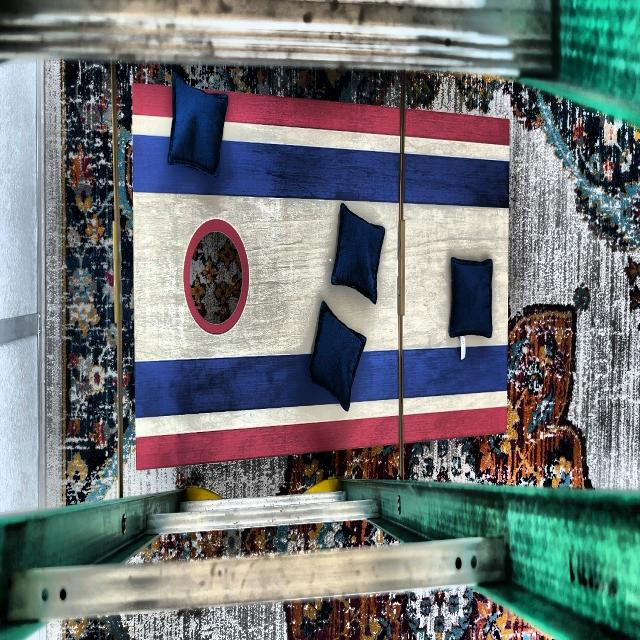blue-bean-bag: (168, 73, 227, 179), (310, 303, 367, 412), (331, 204, 385, 304), (450, 258, 492, 338)
board: (136, 120, 507, 431)
hole: (184, 217, 249, 335)
